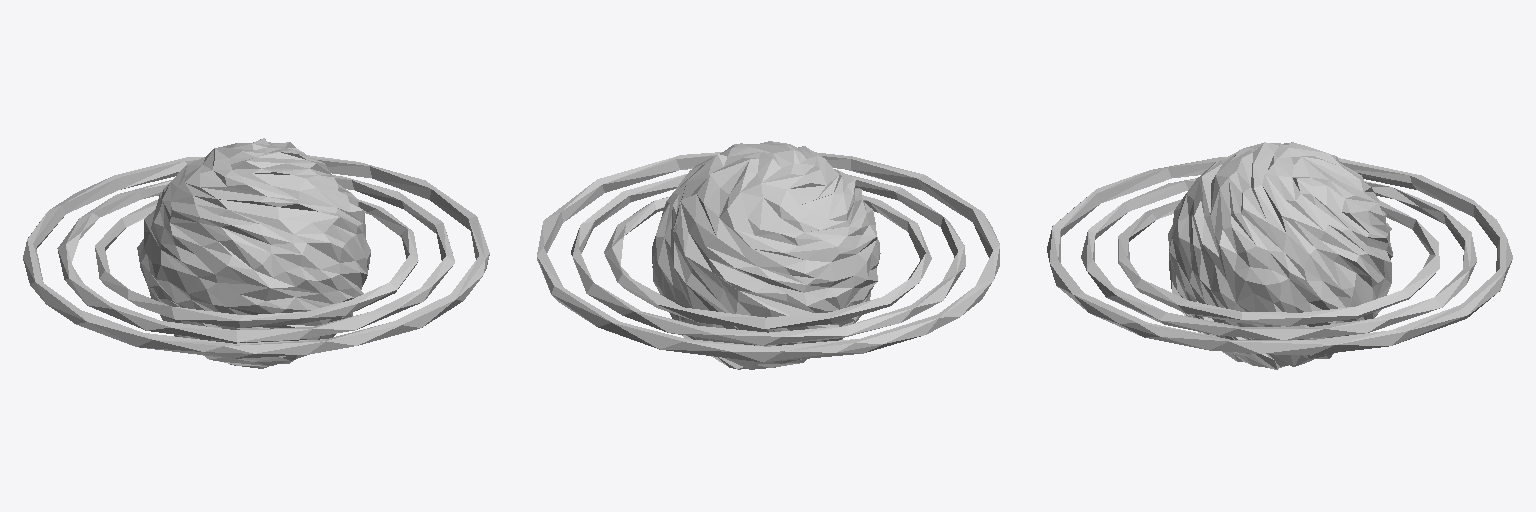
Rendered from saturn.obj.
The picture shows the model from 3 angles: view 1: azimuth 30°, elevation 25°; view 2: azimuth 150°, elevation 25°; view 3: azimuth 270°, elevation 25°; orthographic projection.
Visible parts, largest first — view 1: Saturn_Saturn.002; view 2: Saturn_Saturn.002; view 3: Saturn_Saturn.002.
Part boxes in pixels (x1,y1,x2,y2): Saturn_Saturn.002: (23,138,489,368); Saturn_Saturn.002: (537,141,999,369); Saturn_Saturn.002: (1047,142,1512,369).
Size of the model in its own units: 16.22 by 8.09 by 16.29.